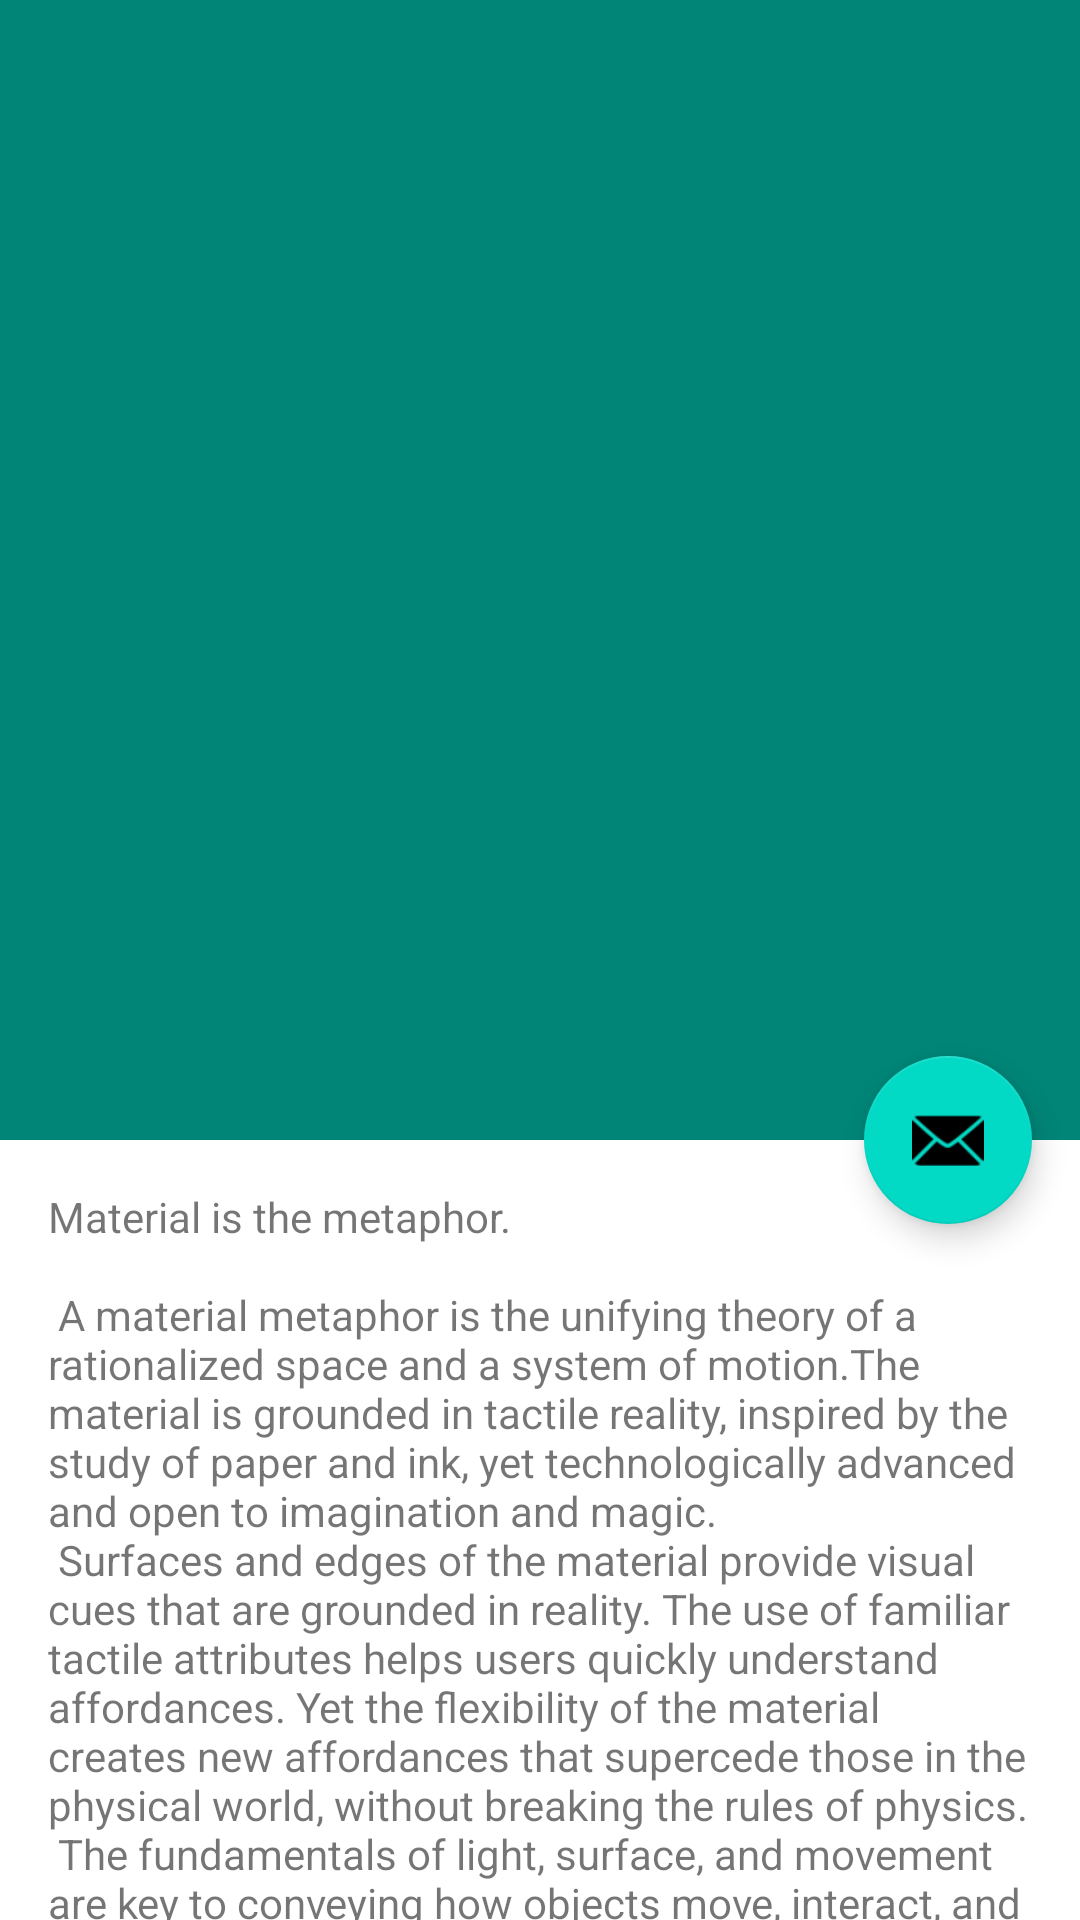

Where to tap for icons on this 1080x1920 app screen, as (x=x, y=y):
email: (x=948, y=1140)
